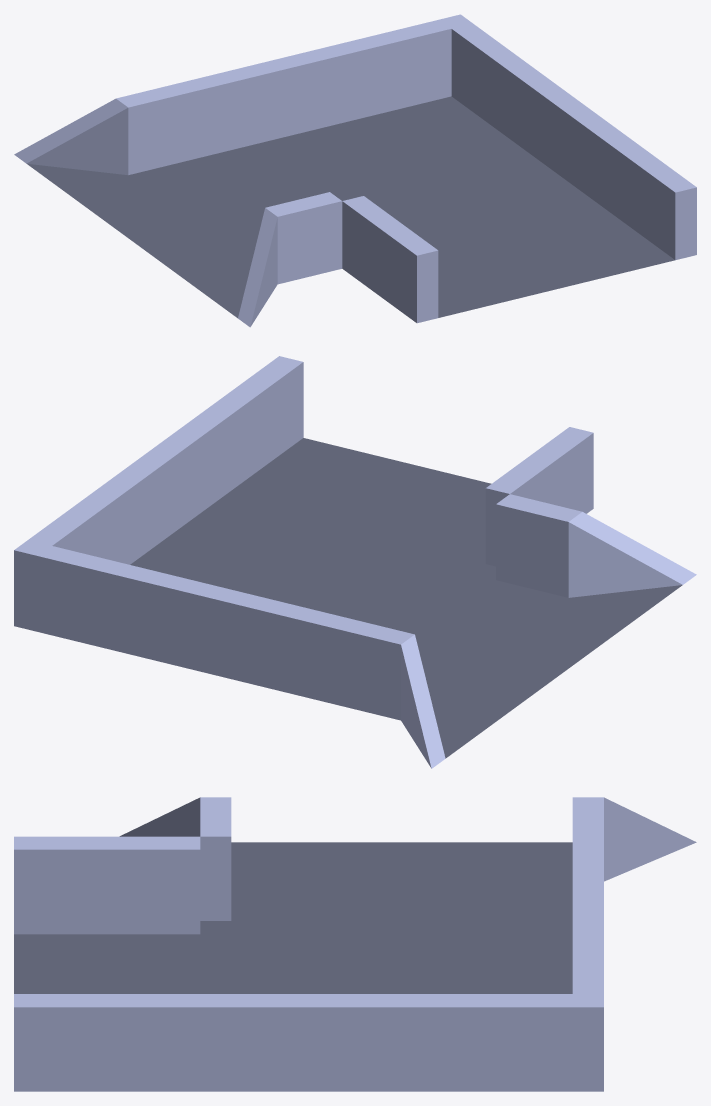
File: footbridge-corridor-closed-east.glb
The picture shows the model from 3 angles, top to bottom: view 1: azimuth 30°, elevation 25°; view 2: azimuth 150°, elevation 25°; view 3: azimuth 270°, elevation 25°; orthographic projection. The views are drawn at different scales.
Parts seen in each view (by area): view 1: footbridge-corridor-closed-east; view 2: footbridge-corridor-closed-east; view 3: footbridge-corridor-closed-east.
Boxes of the visible parts, x1,y1,x2,y2 form: footbridge-corridor-closed-east: (14, 14, 696, 327); footbridge-corridor-closed-east: (14, 356, 696, 768); footbridge-corridor-closed-east: (14, 797, 696, 1091).
Size of the model in its own units: 0.76 by 0.12 by 0.88.
1 material, 1 textured.
